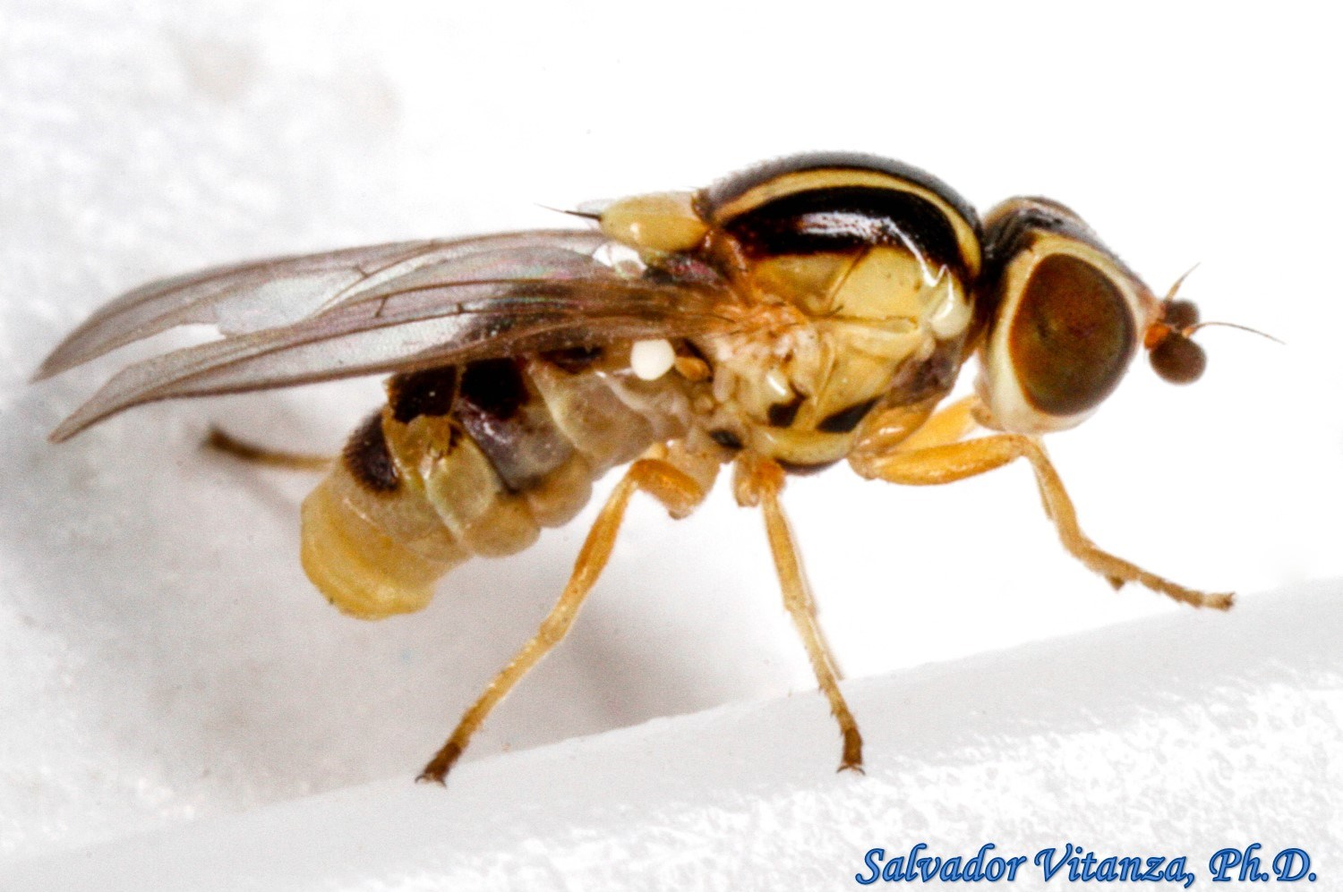Chloropidae: (36, 149, 1282, 794)
